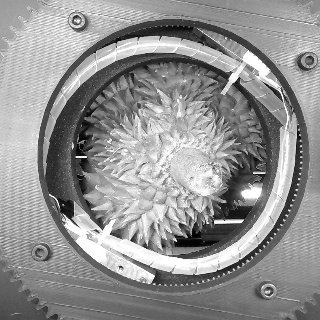base: (160, 141, 211, 191)
end: (189, 168, 223, 197)
